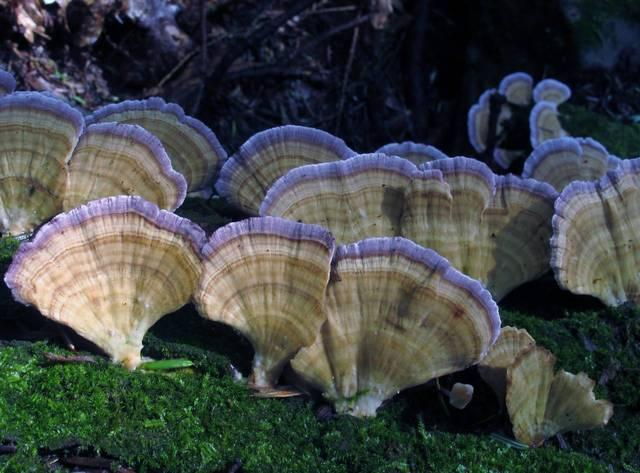poisonous_mushroom: (0, 68, 639, 435), (288, 234, 502, 419), (3, 193, 206, 372), (192, 214, 336, 396)
